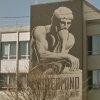Statue: (19, 7, 78, 76)
